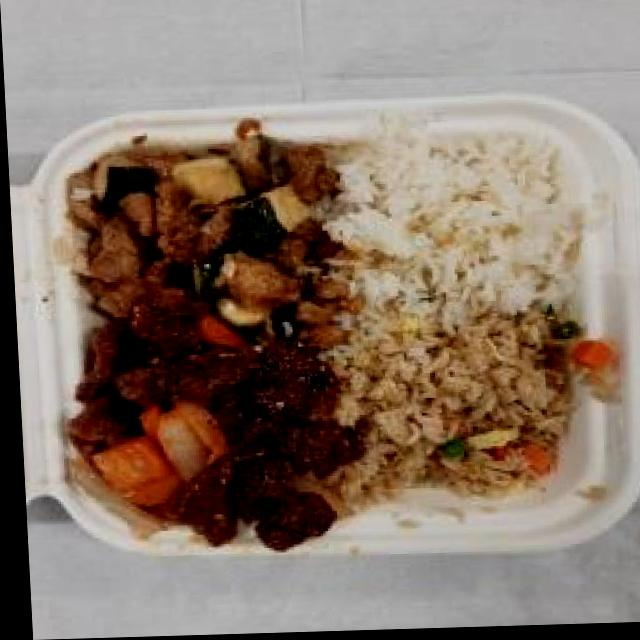Beijing Beef: (53, 317, 366, 552)
Fried Rice: (325, 297, 591, 511)
Kung Pao Chicken: (51, 136, 333, 325)
White Steamed Rice: (333, 122, 588, 312)
